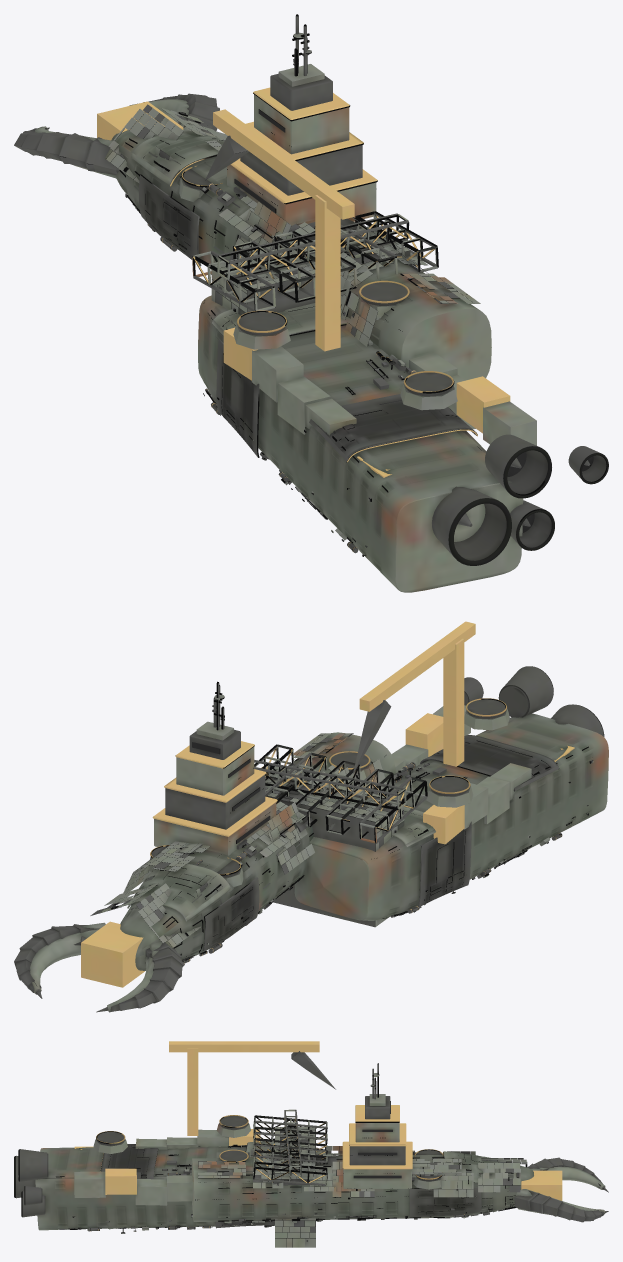
File: uncrowned_hero.glb
3 renders of one model, top to bottom at view 1: azimuth 30°, elevation 25°; view 2: azimuth 150°, elevation 25°; view 3: azimuth 270°, elevation 25°, orthographic. The views are drawn at different scales.
Parts seen in each view (by area): view 1: HullBaked; view 2: HullBaked; view 3: HullBaked.
Boxes of the visible parts, x1,y1,x2,y2 form: HullBaked: (14,14,608,592); HullBaked: (14,621,608,1012); HullBaked: (14,1041,608,1247).
Bounding box in the file's own units: 352 × 408 × 1159.
1 material, 1 textured.
